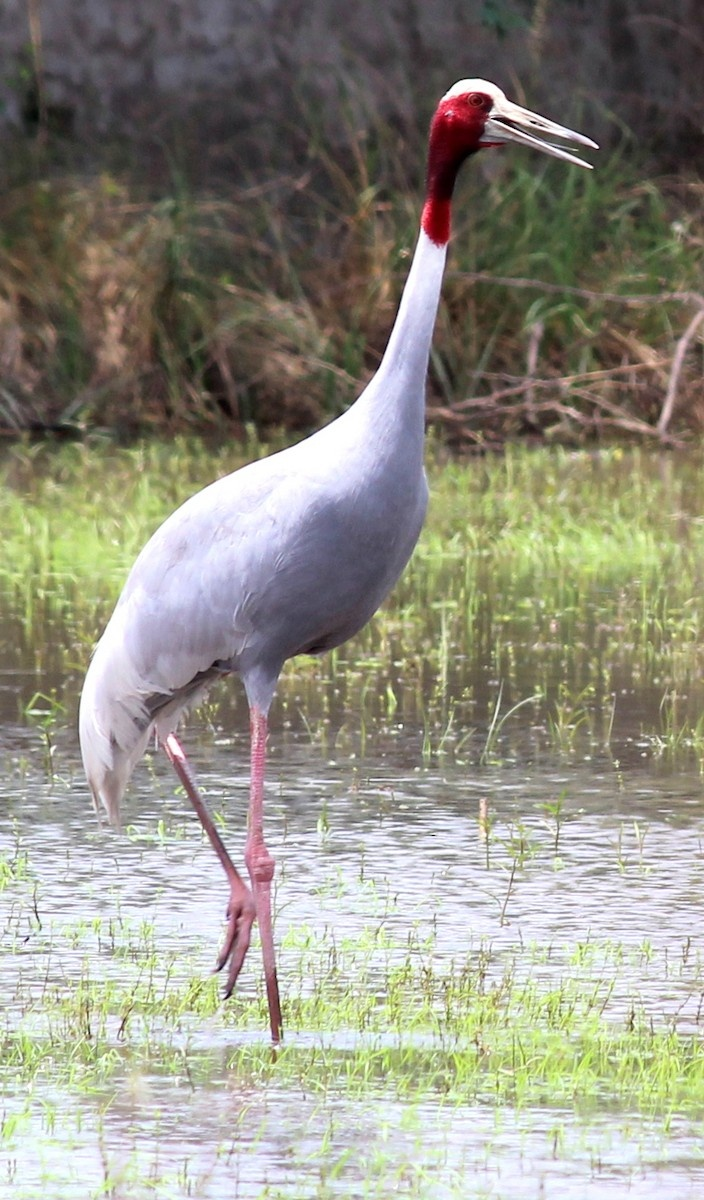crane: (81, 67, 607, 1035)
